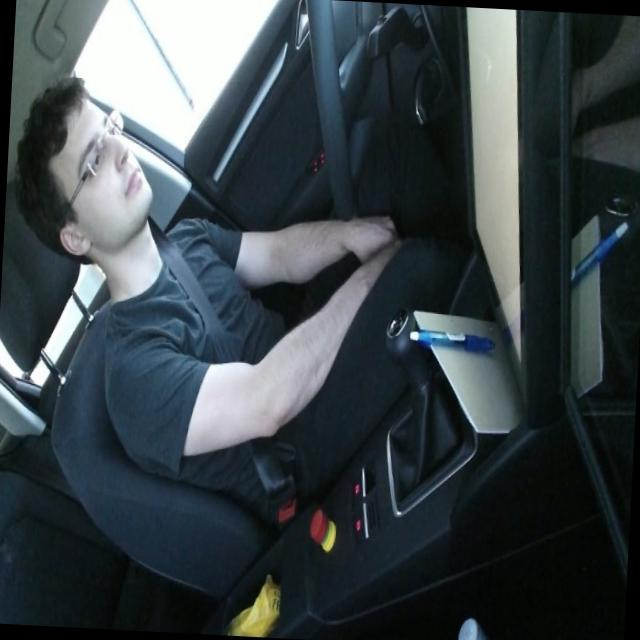pen: (408, 326, 496, 353)
